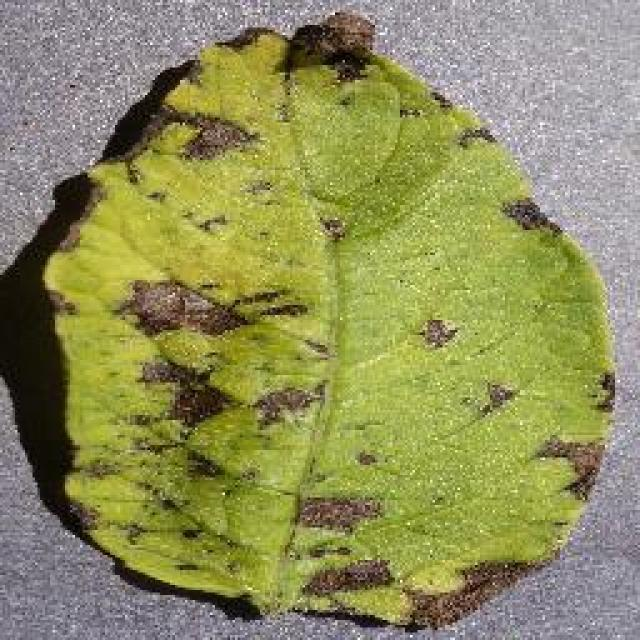early_blight: (35, 10, 620, 635)
